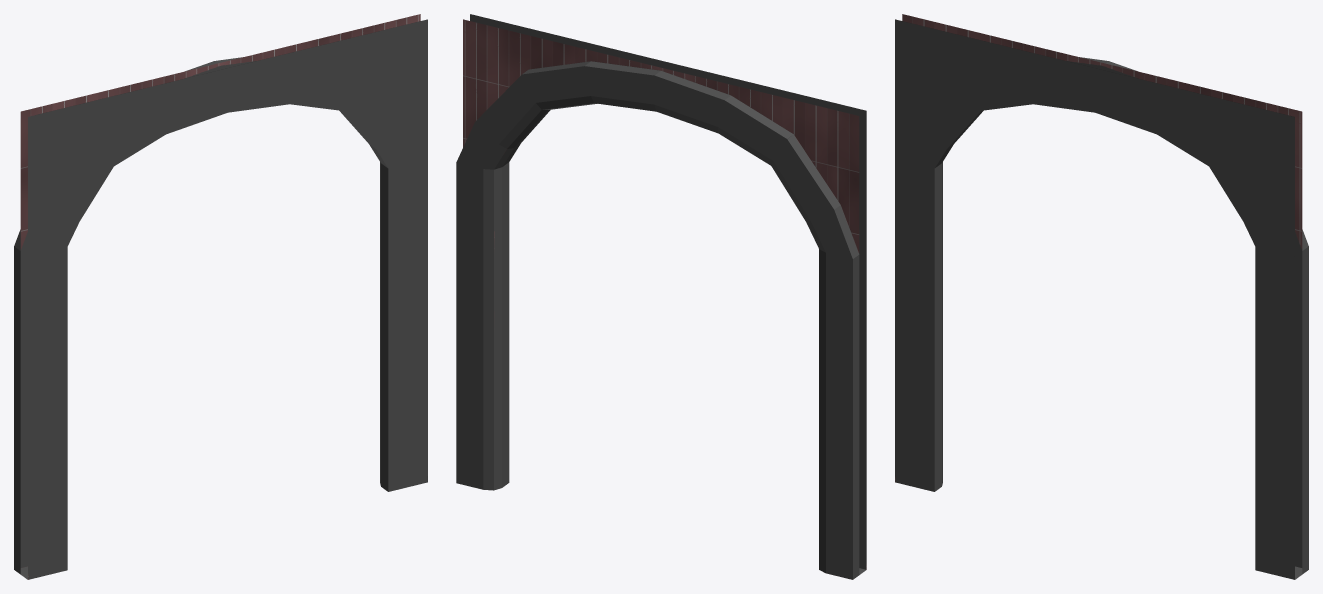
The model's file is Color_Arch.fbx.
3 views of the same model, side by side, from view 1: azimuth 30°, elevation 25°; view 2: azimuth 150°, elevation 25°; view 3: azimuth 330°, elevation 25° (orthographic).
Visible parts, largest first — view 1: Cube.020; view 2: Cube.020; view 3: Cube.020.
Boxes of the visible parts, x1=… form: Cube.020: x1=14, y1=14, x2=427, y2=579; Cube.020: x1=456, y1=14, x2=866, y2=579; Cube.020: x1=895, y1=14, x2=1308, y2=579.
Bounding box in the file's own units: 5.05 × 5.59 × 0.3038.
1 material, 1 textured.
